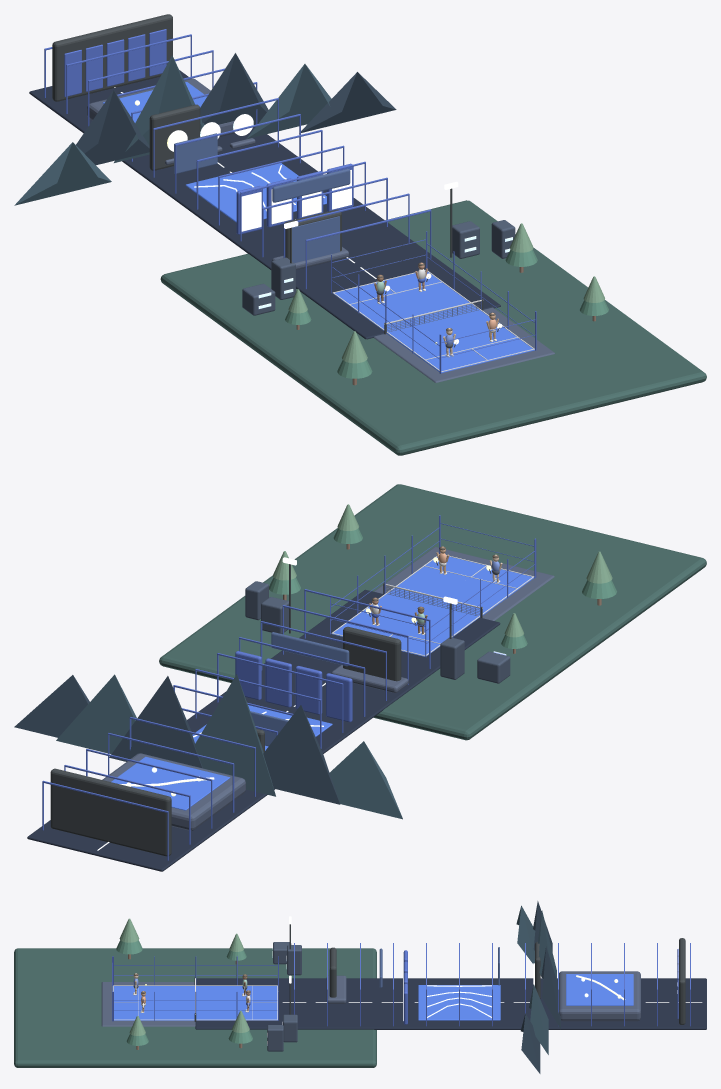
File: padlo-pilot.glb
The picture shows the model from 3 angles, top to bottom: view 1: azimuth 30°, elevation 25°; view 2: azimuth 150°, elevation 25°; view 3: azimuth 270°, elevation 25°; orthographic projection. The views are drawn at different scales.
Parts seen in each view (by area): view 1: Ground, Facility_spine, Court_surface, Locker_room_wall, Alpine_peak_1, Alpine_peak_3, Alpine_peak_4, Alpine_peak_0, Court_platform, Analysis_court, Alpine_peak_5, Alpine_peak_2 (+15 smaller); view 2: Ground, Facility_spine, Court_surface, Locker_room_wall, Alpine_peak_2, Alpine_peak_1, Alpine_peak_3, Alpine_peak_4, Alpine_peak_0, Replay_court, Setup_terminal_body, Alpine_peak_5 (+14 smaller); view 3: Ground, Facility_spine, Court_surface, Analysis_court, Replay_court, Replay_plinth, Court_platform, Alpine_peak_3, Alpine_peak_4, Alpine_peak_5, Alpine_peak_0, Locker_room_wall (+10 smaller).
Boxes of the visible parts, x1,y1,x2,y2 form: Ground: [160, 200, 706, 455]; Facility_spine: [29, 70, 500, 339]; Court_surface: [332, 270, 534, 373]; Locker_room_wall: [52, 14, 172, 101]; Alpine_peak_1: [76, 90, 149, 165]; Alpine_peak_3: [200, 53, 268, 125]; Alpine_peak_4: [246, 64, 331, 138]; Alpine_peak_0: [14, 142, 111, 205]; Court_platform: [374, 307, 554, 382]; Analysis_court: [185, 163, 326, 222]; Alpine_peak_5: [301, 72, 396, 132]; Alpine_peak_2: [114, 55, 204, 162]; Ground: [159, 484, 706, 740]; Facility_spine: [27, 589, 500, 871]; Court_surface: [331, 556, 534, 656]; Locker_room_wall: [50, 768, 171, 856]; Alpine_peak_2: [194, 674, 275, 796]; Alpine_peak_1: [263, 705, 340, 804]; Alpine_peak_3: [109, 676, 202, 768]; Alpine_peak_4: [56, 674, 136, 754]; Alpine_peak_0: [330, 741, 402, 819]; Replay_court: [111, 756, 230, 810]; Setup_terminal_body: [343, 626, 401, 681]; Alpine_peak_5: [14, 675, 89, 737]; Ground: [14, 948, 376, 1067]; Facility_spine: [195, 978, 706, 1029]; Court_surface: [113, 986, 277, 1020]; Analysis_court: [418, 985, 500, 1020]; Replay_court: [566, 974, 633, 1005]; Replay_plinth: [559, 971, 640, 1021]; Court_platform: [101, 982, 195, 1026]; Alpine_peak_3: [541, 946, 560, 1029]; Alpine_peak_4: [529, 984, 548, 1054]; Alpine_peak_5: [520, 1013, 540, 1073]; Alpine_peak_0: [516, 905, 535, 963]; Locker_room_wall: [679, 938, 685, 1024].
Size of the model in its own units: 40.9 by 12.05 by 84.
